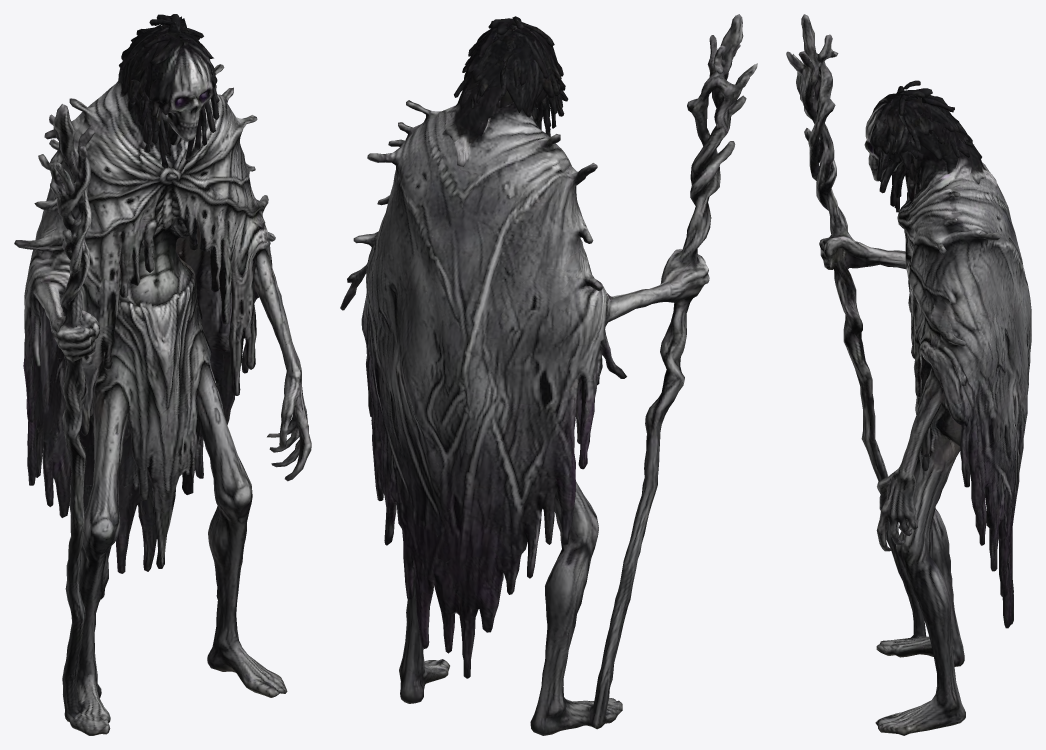
File: UD_MarshLouse.glb
3 renders of one model, left to right at view 1: azimuth 30°, elevation 25°; view 2: azimuth 150°, elevation 25°; view 3: azimuth 270°, elevation 25°, orthographic. The views are drawn at different scales.
Size of the model in its own units: 0.9315 by 1.91 by 0.7006.
1 material, 1 textured.
